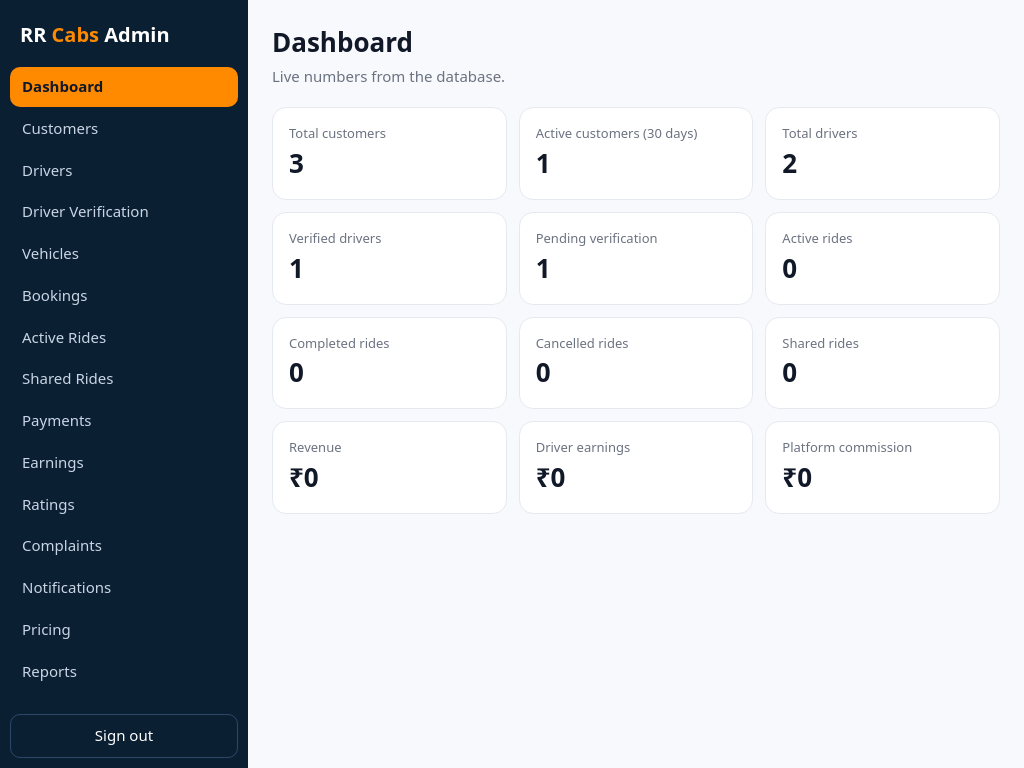
Test: admin panel › sign out clears the session and returns to login
The image size is (1024, 768).
Expected: the navigation bar named "Admin navigation" is shown, [0, 63, 248, 704]
Step 1. Click the button "Sign out" → click(124, 736), box [10, 714, 238, 758]
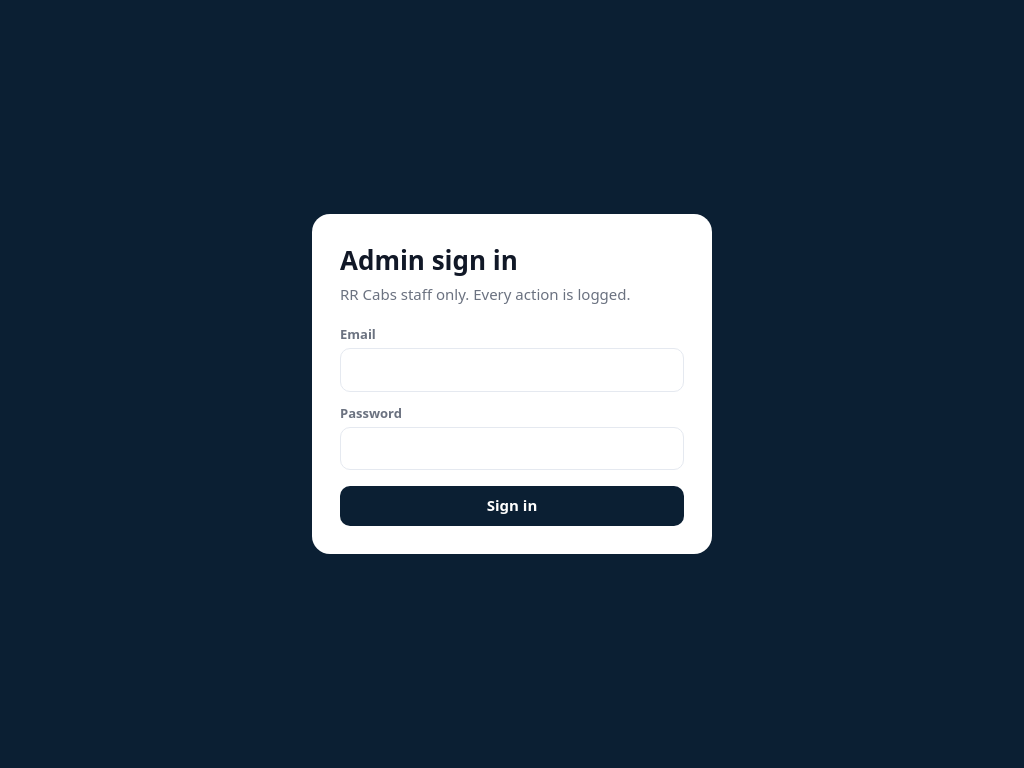
Now the heading "Admin sign in" is shown, box [340, 242, 518, 278]
